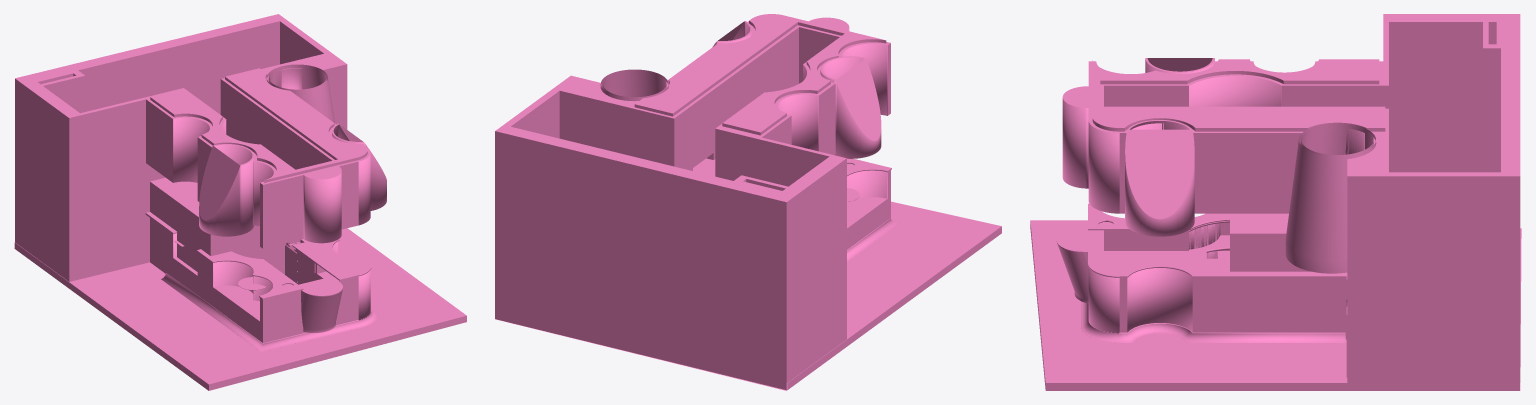
File: asset.glb
The picture shows the model from 3 angles, left to right: view 1: azimuth 30°, elevation 25°; view 2: azimuth 150°, elevation 25°; view 3: azimuth 270°, elevation 25°; orthographic projection. The views are drawn at different scales.
Visible parts, largest first — view 1: the final model, Cube; view 2: the final model; view 3: the final model, Cube.
Part boxes in pixels (left/top/right/bottom): the final model: left=14, top=14, right=466, bottom=390; Cube: left=150, top=177, right=286, bottom=274; the final model: left=495, top=14, right=1001, bottom=390; the final model: left=1030, top=14, right=1521, bottom=390; Cube: left=1230, top=213, right=1310, bottom=271.
Bounding box in the file's own units: 4.98 × 3.12 × 6.36.
